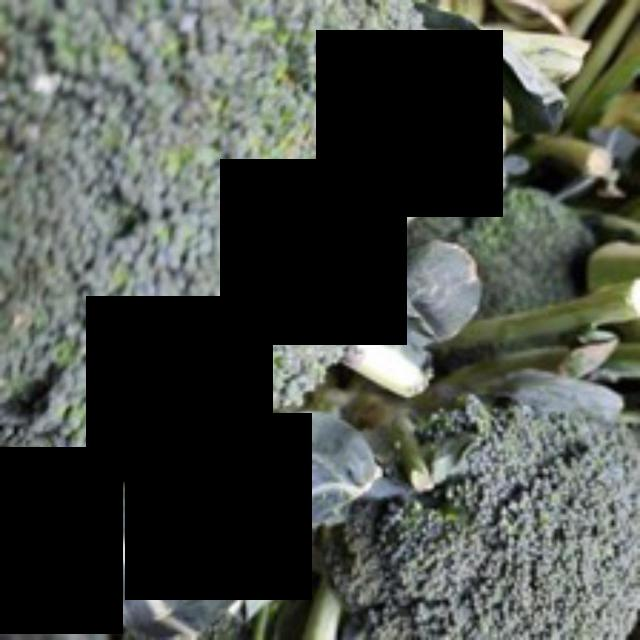broccoli: (0, 0, 457, 497)
